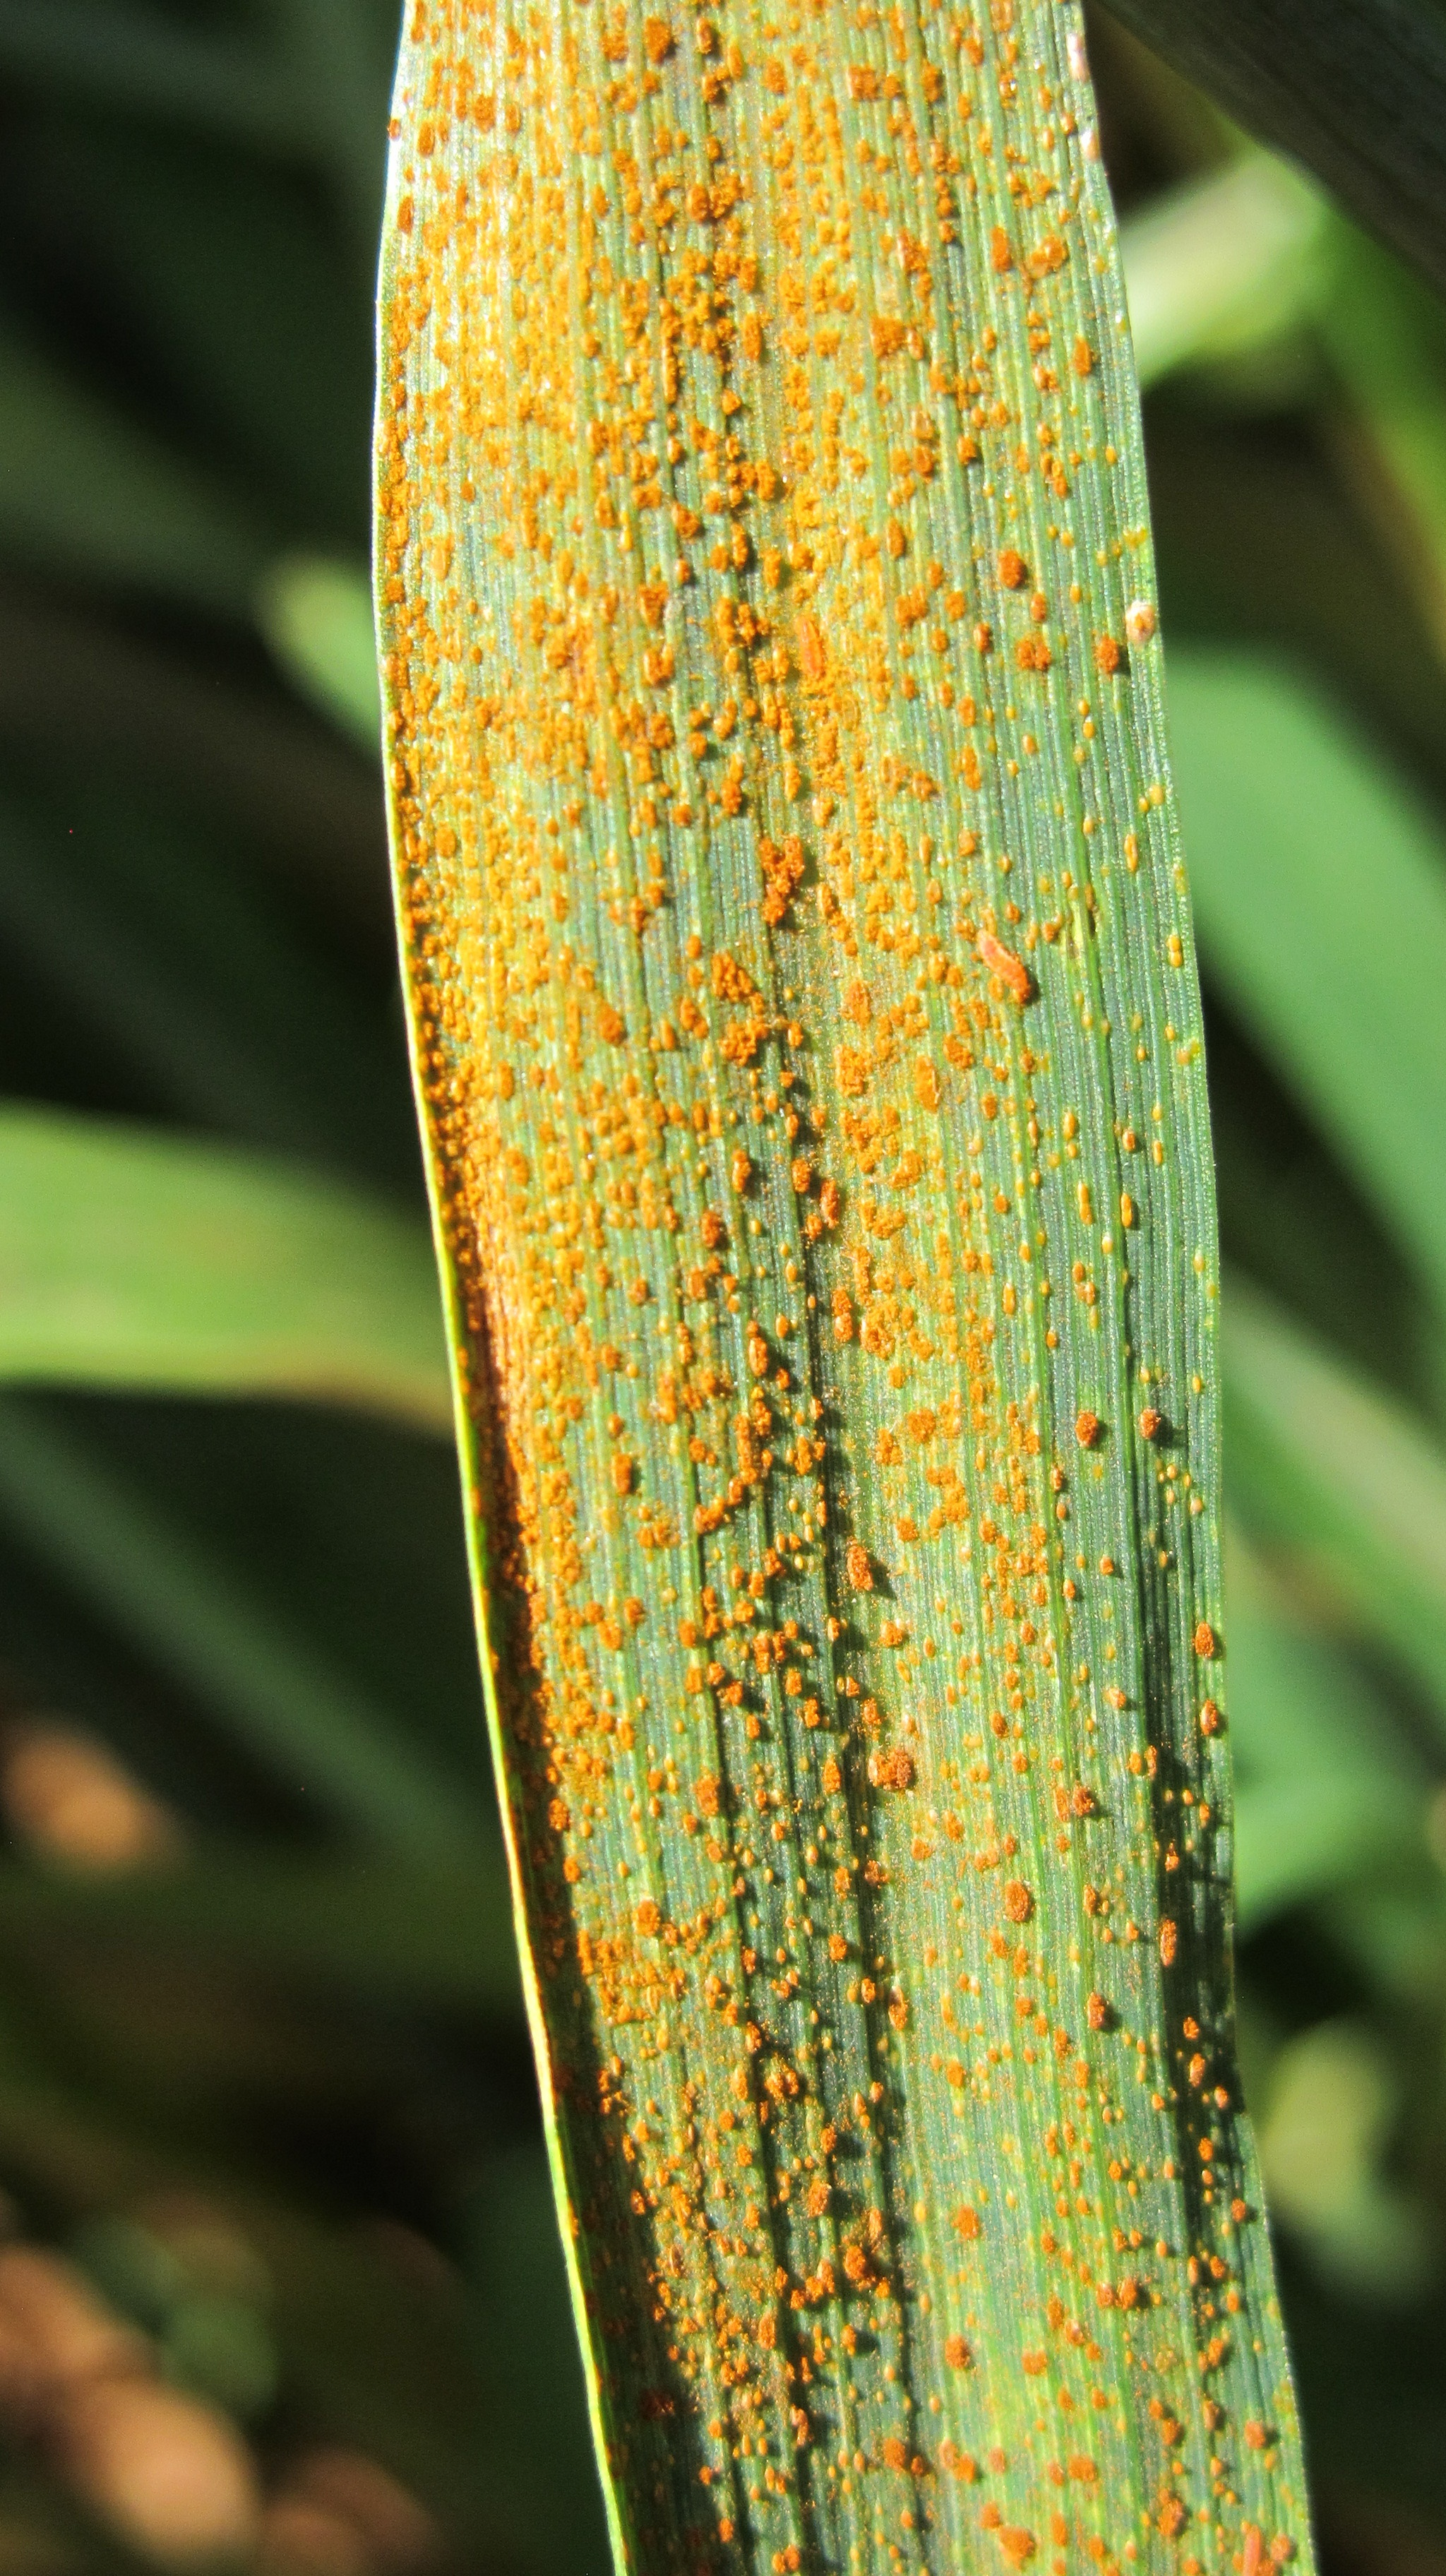Leaf Rust: (352, 129, 1386, 2378)
